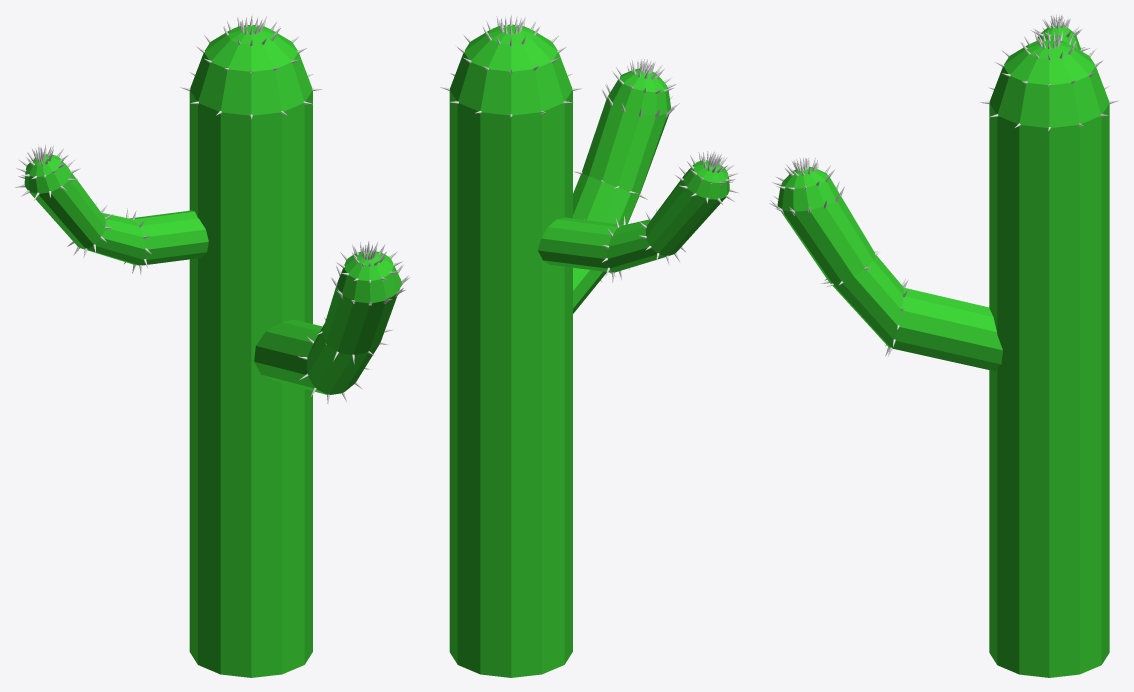
File: kaktus2.fbx
3 renders of one model, left to right at view 1: azimuth 30°, elevation 25°; view 2: azimuth 150°, elevation 25°; view 3: azimuth 270°, elevation 25°, orthographic. The views are drawn at different scales.
Visible parts, largest first — view 1: Cylinder; view 2: Cylinder; view 3: Cylinder.
Boxes of the visible parts, x1,y1,x2,y2 form: Cylinder: (24, 25, 401, 677); Cylinder: (449, 24, 729, 677); Cylinder: (777, 25, 1109, 677).
Bounding box in the file's own units: 545 × 1131 × 584.
